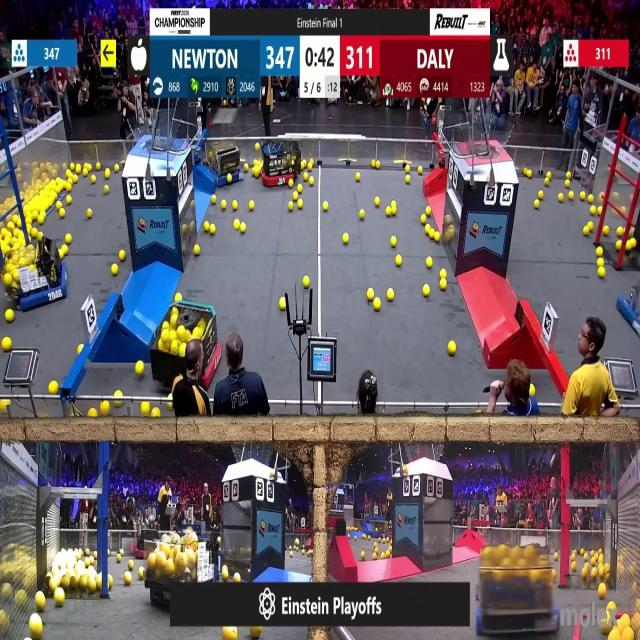ball_ground: (31, 616, 44, 638), (36, 594, 46, 612), (56, 589, 66, 607), (2, 338, 11, 352), (101, 401, 110, 415), (136, 360, 144, 375), (141, 404, 150, 417), (449, 342, 457, 356), (598, 586, 606, 600), (48, 382, 57, 394), (5, 310, 13, 323), (220, 567, 228, 580), (374, 300, 382, 312), (125, 572, 133, 584), (602, 624, 610, 636), (387, 288, 394, 301), (151, 408, 160, 418), (624, 631, 634, 640), (97, 574, 103, 589), (598, 268, 605, 280), (426, 256, 433, 268), (111, 265, 118, 277), (90, 410, 98, 420), (280, 299, 286, 312), (4, 274, 10, 287), (0, 399, 7, 410), (304, 276, 310, 288), (366, 288, 372, 300), (252, 169, 260, 178), (175, 292, 182, 302), (596, 247, 603, 257), (235, 572, 242, 582), (396, 255, 402, 266), (423, 285, 429, 296), (343, 234, 349, 245), (118, 250, 124, 261), (529, 385, 535, 396), (139, 568, 145, 579), (38, 212, 44, 223), (597, 567, 603, 578), (607, 601, 614, 610), (597, 207, 604, 216), (31, 230, 38, 239), (193, 245, 199, 255), (603, 225, 609, 235), (66, 235, 72, 245), (442, 280, 448, 290), (210, 223, 216, 233), (390, 237, 396, 247), (618, 241, 624, 251), (441, 270, 447, 280), (434, 233, 440, 243), (579, 190, 585, 200), (205, 222, 211, 232), (240, 222, 246, 232), (220, 200, 226, 210), (618, 228, 624, 238), (630, 240, 636, 250), (592, 567, 598, 577), (584, 568, 590, 578), (62, 246, 68, 256), (597, 258, 604, 266), (115, 390, 122, 398), (37, 233, 44, 241), (589, 222, 596, 230), (375, 198, 381, 207), (104, 184, 110, 193), (235, 220, 241, 229), (589, 193, 595, 202), (424, 224, 430, 233), (590, 207, 596, 216), (584, 225, 590, 234), (66, 182, 72, 191), (75, 166, 81, 175), (249, 202, 254, 212), (323, 202, 328, 212), (359, 210, 364, 220), (108, 575, 113, 585), (421, 214, 426, 224), (565, 182, 570, 192), (568, 191, 574, 199), (386, 208, 392, 216), (292, 191, 298, 199), (403, 175, 409, 183), (566, 172, 572, 180), (72, 175, 78, 183), (115, 556, 121, 564), (66, 170, 72, 178), (82, 168, 88, 176), (78, 345, 84, 353), (428, 232, 434, 240), (299, 162, 305, 170), (61, 209, 66, 218), (88, 209, 93, 218), (288, 203, 293, 212), (559, 192, 564, 201), (212, 194, 217, 203), (105, 170, 110, 179), (534, 200, 539, 209), (370, 161, 375, 170), (309, 163, 314, 172), (418, 168, 424, 175), (115, 399, 121, 406), (83, 560, 89, 567), (234, 201, 238, 211), (356, 172, 360, 182), (297, 200, 301, 210), (67, 197, 72, 205), (572, 562, 576, 572), (555, 554, 560, 562), (527, 170, 532, 178), (376, 162, 381, 170), (571, 554, 576, 562), (391, 202, 396, 210), (592, 558, 597, 566), (426, 207, 430, 216), (403, 464, 407, 473), (114, 166, 119, 173), (371, 554, 376, 561), (538, 190, 542, 198), (130, 561, 134, 569), (308, 180, 312, 188), (544, 178, 548, 186), (297, 184, 301, 192), (360, 553, 364, 561), (97, 164, 101, 172), (288, 180, 292, 188), (242, 164, 246, 172), (58, 202, 62, 210), (387, 552, 391, 560), (255, 143, 259, 151), (585, 554, 589, 562), (381, 554, 386, 560), (168, 402, 173, 408), (93, 176, 97, 183), (546, 172, 550, 179), (407, 165, 411, 172), (169, 393, 173, 400), (289, 553, 293, 559), (388, 545, 392, 551), (66, 562, 70, 568), (108, 551, 111, 557)
goal: (459, 118, 516, 158), (128, 116, 186, 152)
robot_blue: (153, 529, 229, 606), (7, 241, 69, 311), (202, 139, 243, 186), (619, 276, 640, 330), (365, 520, 393, 540)
robot_red: (473, 545, 562, 635), (154, 301, 222, 395), (260, 137, 304, 186), (132, 528, 160, 558)
